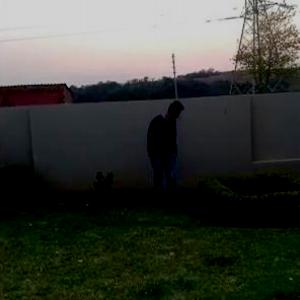follow: (143, 92, 181, 219)
